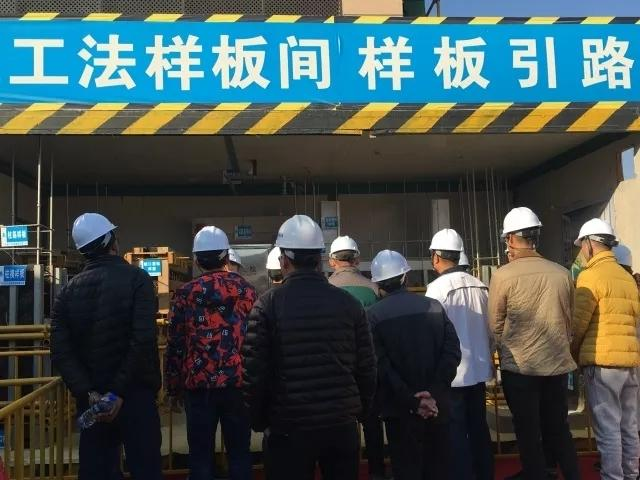helmet: (69, 211, 119, 248), (498, 206, 545, 235), (370, 250, 411, 282), (192, 225, 230, 254), (574, 217, 616, 242), (429, 227, 466, 252), (331, 235, 362, 255)
no_wear: (55, 270, 157, 408), (262, 283, 354, 432), (493, 258, 578, 375), (367, 298, 447, 415), (575, 258, 640, 377), (177, 277, 241, 390), (445, 273, 491, 390)
